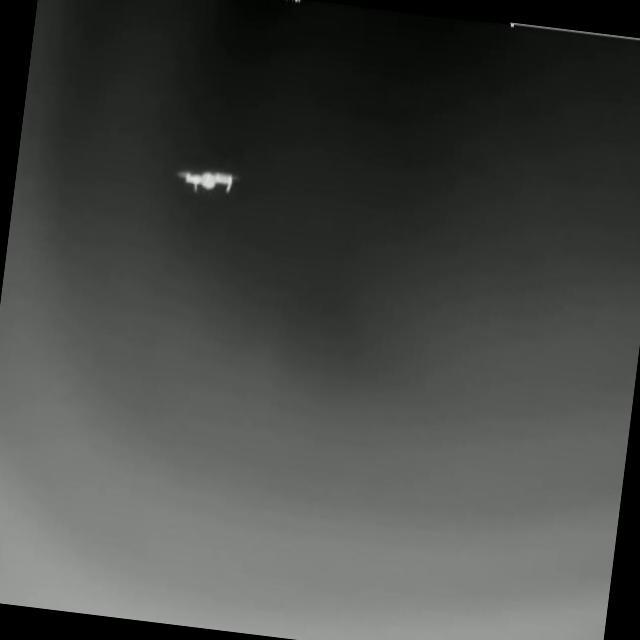DRONE: (176, 168, 238, 193)
